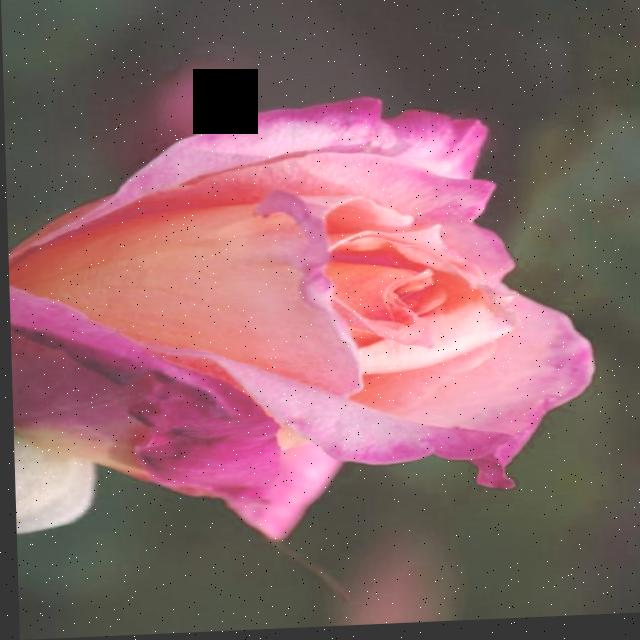rose: (3, 110, 548, 555)
